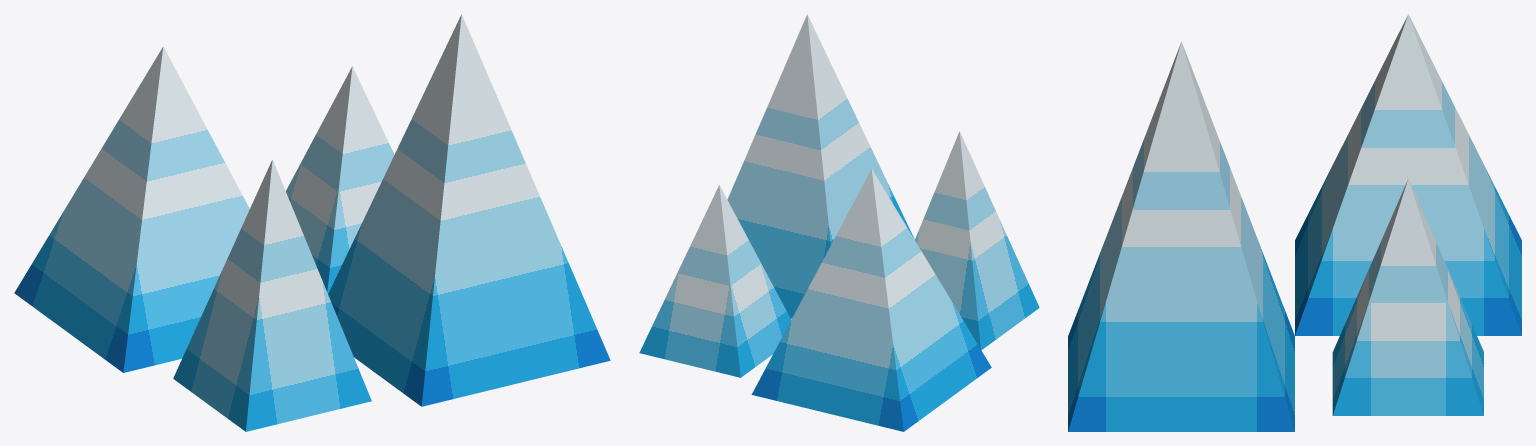
The model's file is SpikesModel.fbx.
3 views of the same model, side by side, from view 1: azimuth 30°, elevation 25°; view 2: azimuth 150°, elevation 25°; view 3: azimuth 270°, elevation 25° (orthographic). The views are drawn at different scales.
Visible parts, largest first — view 1: pyramid, pyramid_3, pyramid_1, pyramid_2; view 2: pyramid_3, pyramid, pyramid_2, pyramid_1; view 3: pyramid, pyramid_3, pyramid_2.
Boxes of the visible parts, bbox=[...] form: pyramid: bbox=[328, 14, 610, 406]; pyramid_3: bbox=[14, 46, 249, 372]; pyramid_1: bbox=[173, 159, 371, 431]; pyramid_2: bbox=[286, 66, 394, 293]; pyramid_3: bbox=[751, 169, 991, 431]; pyramid: bbox=[727, 14, 914, 318]; pyramid_2: bbox=[639, 185, 791, 377]; pyramid_1: bbox=[915, 131, 1039, 349]; pyramid: bbox=[1068, 41, 1294, 431]; pyramid_3: bbox=[1295, 14, 1521, 335]; pyramid_2: bbox=[1332, 179, 1483, 415].
Size of the model in its own units: 75 by 62.5 by 75.
